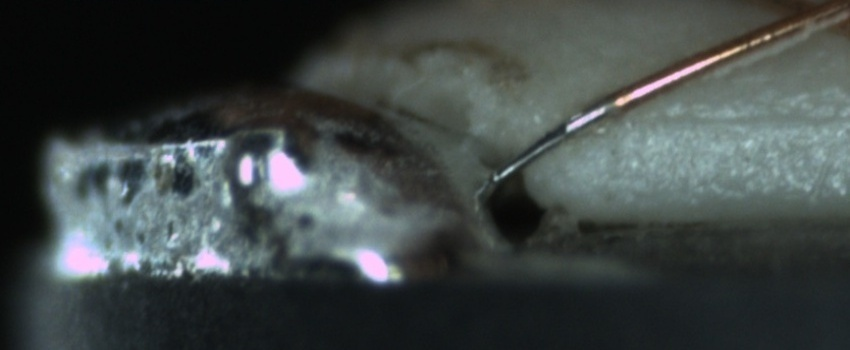CL: (764, 0, 847, 45)
DL: (626, 86, 850, 148)
TS: (497, 99, 612, 186)
TTCW: (497, 76, 641, 185)
